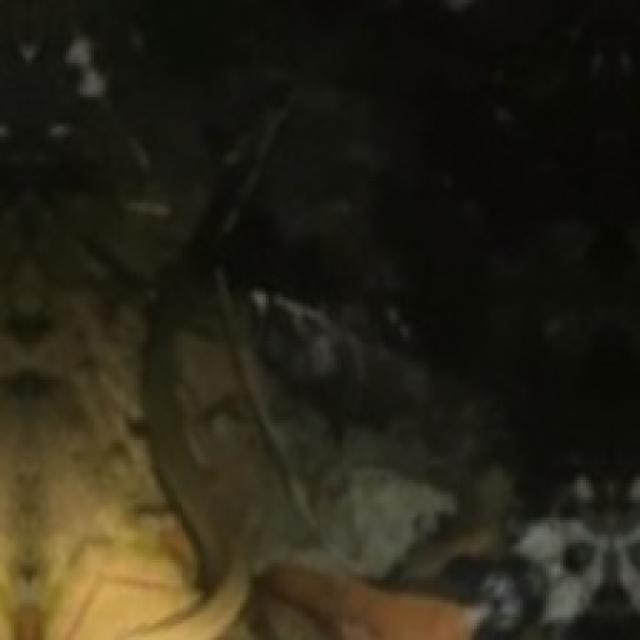king cobra: (131, 100, 288, 639)
